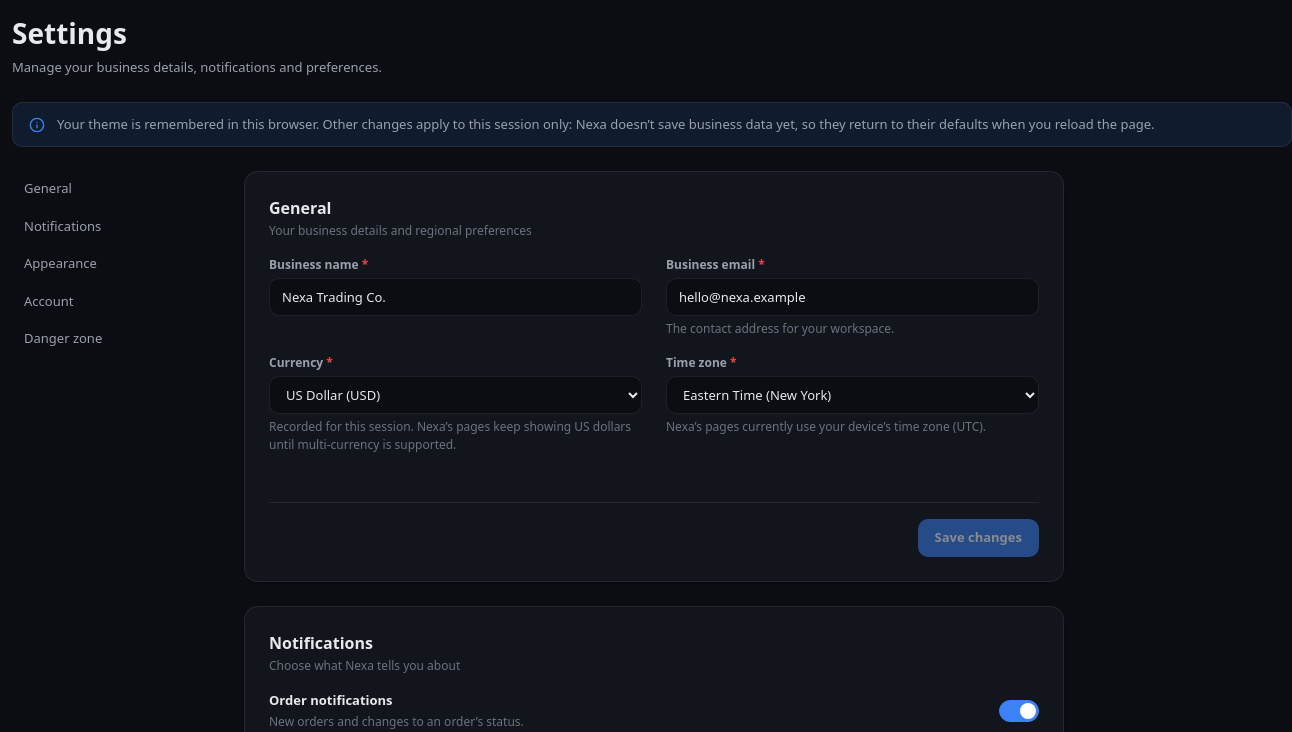
Test: General settings › Save applies every edited field and confirms it clearly
Replace the text in the field labelled "Business name" with "  Acme Trading  " at (456, 297), box [269, 278, 642, 316]
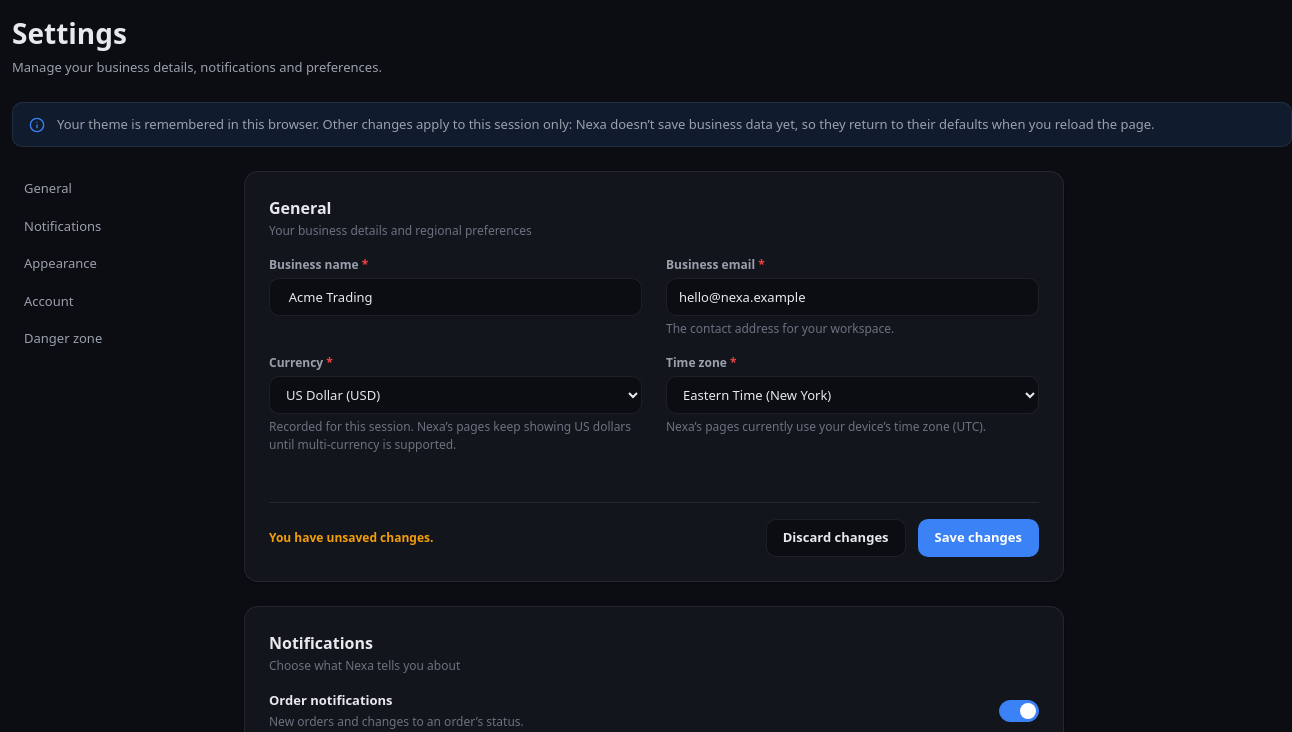
Replace the text in the field labelled "Business email" with "team@acme.example" at (852, 297), box [666, 278, 1039, 316]
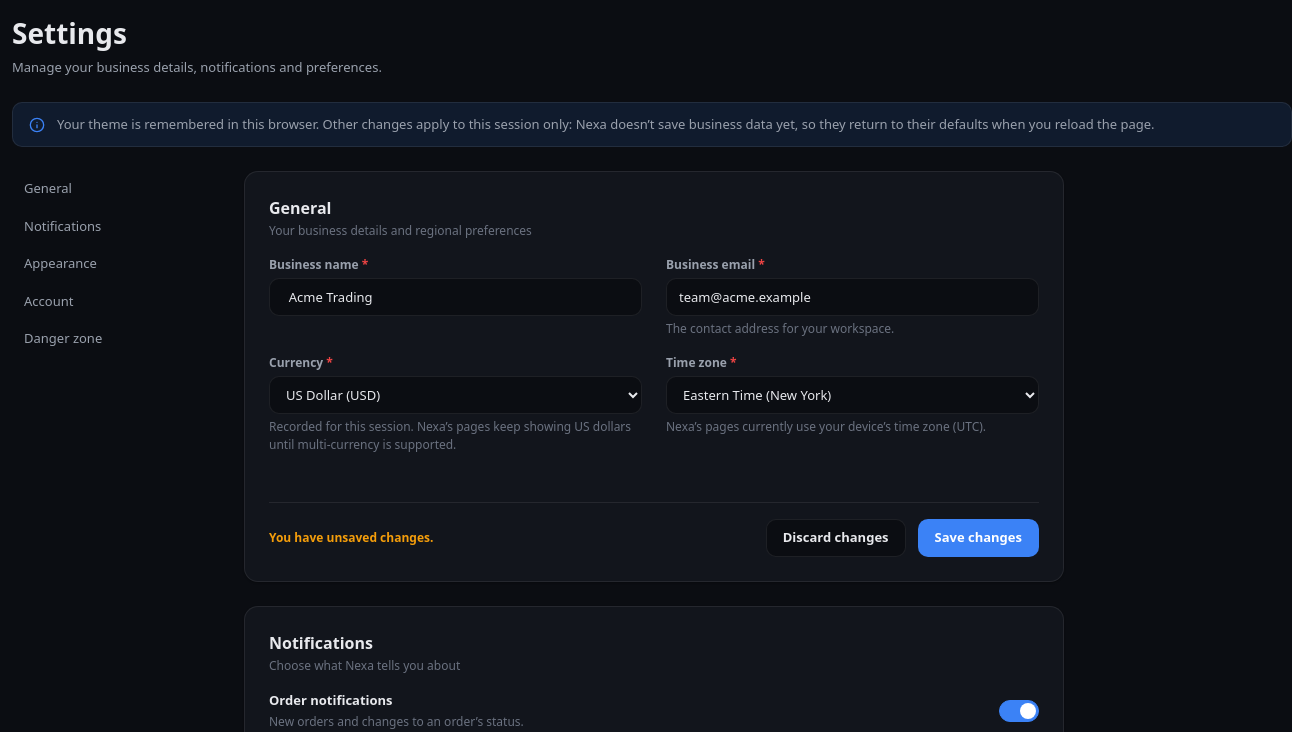
Select "Euro (EUR)" in the dropdown labelled "Currency" at (456, 395), box [269, 376, 642, 414]
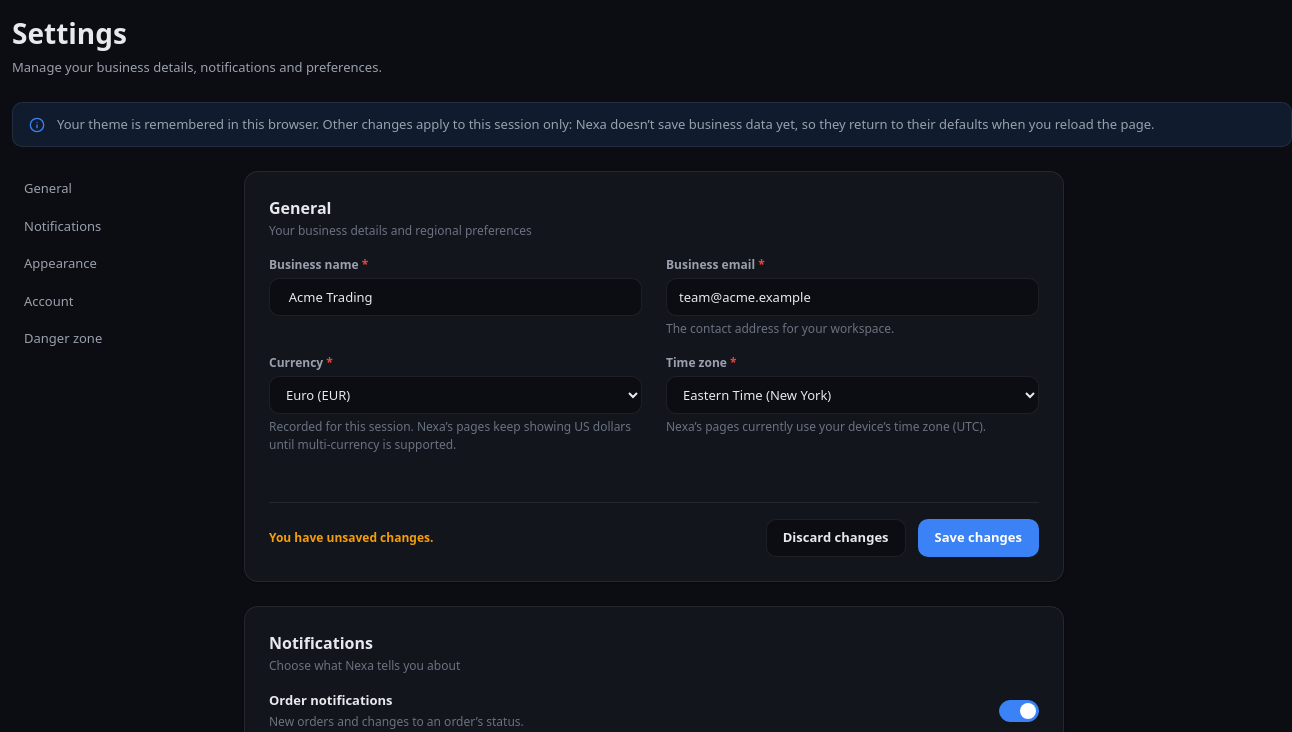
Select "London" in the dropdown labelled "Time zone" at (852, 395), box [666, 376, 1039, 414]
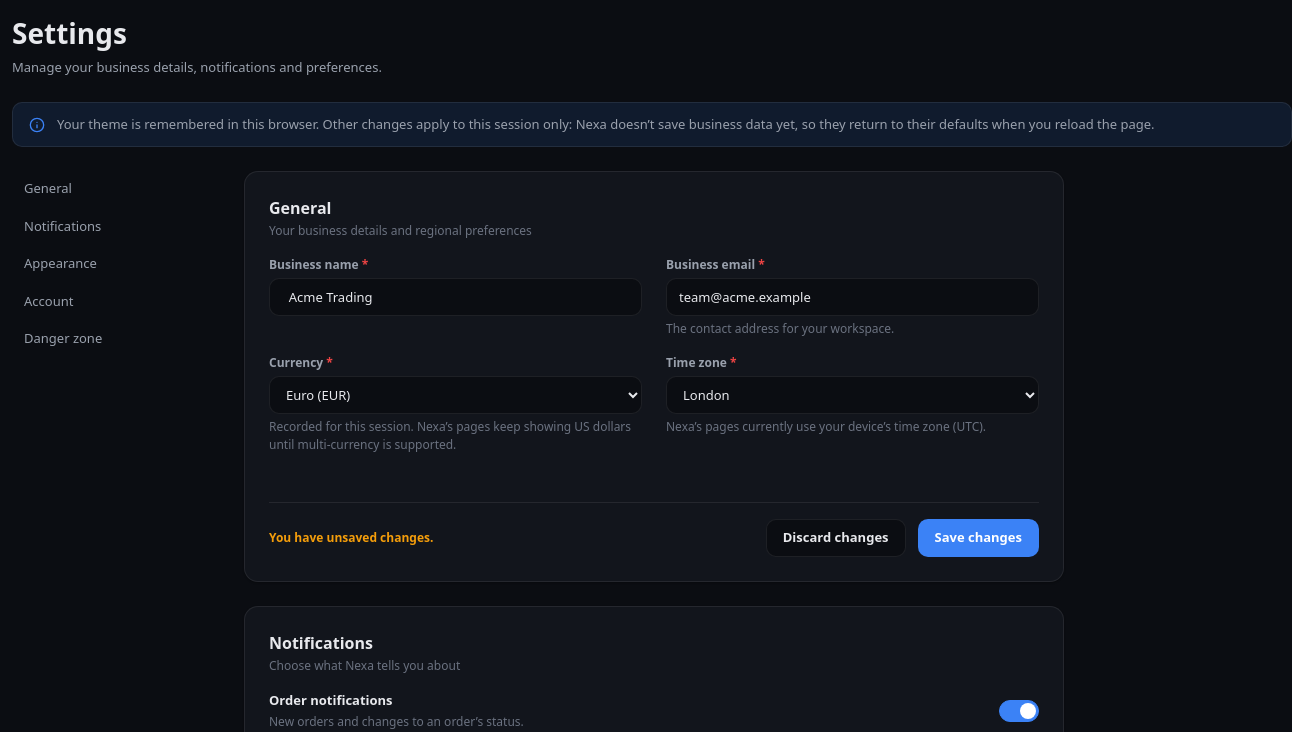
Click the button "Save changes" at (978, 538), box [918, 519, 1039, 557]
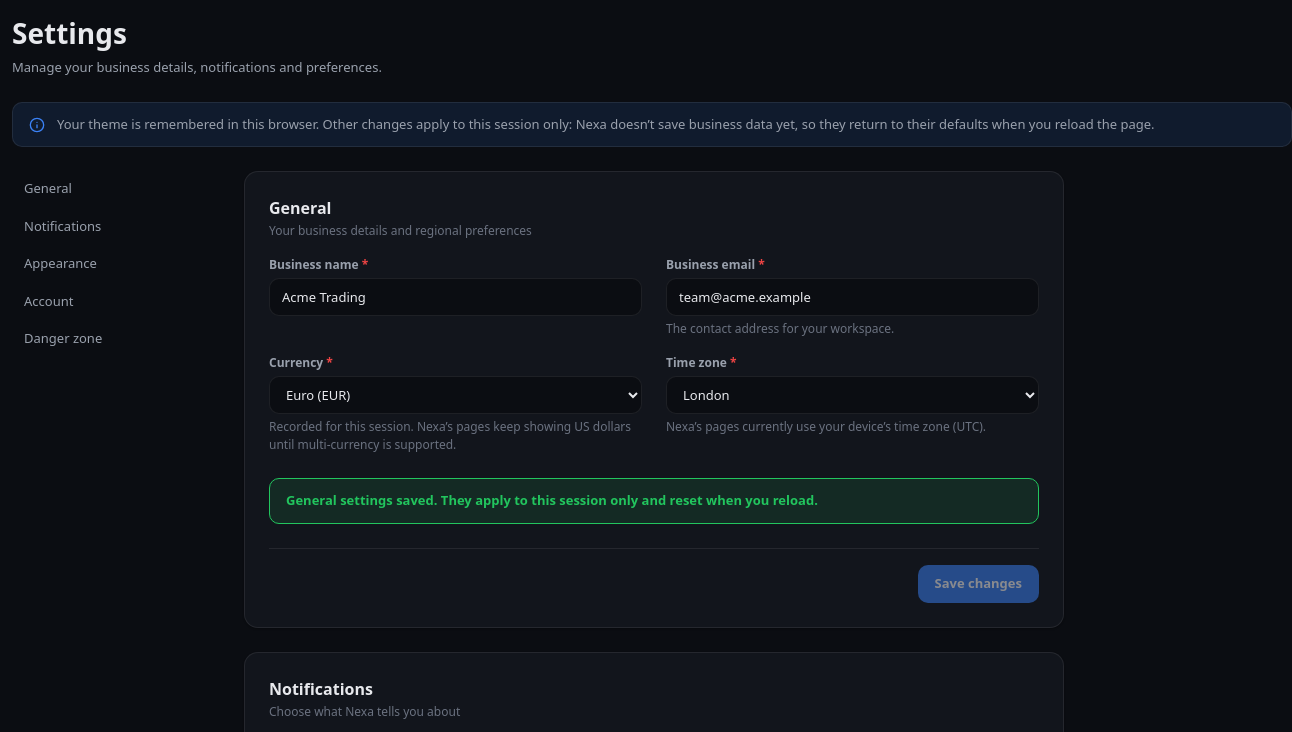
expect the button "Save changes" is disabled: met, box [918, 564, 1039, 602]
expect the text "You have unsaved changes." is gone: met
